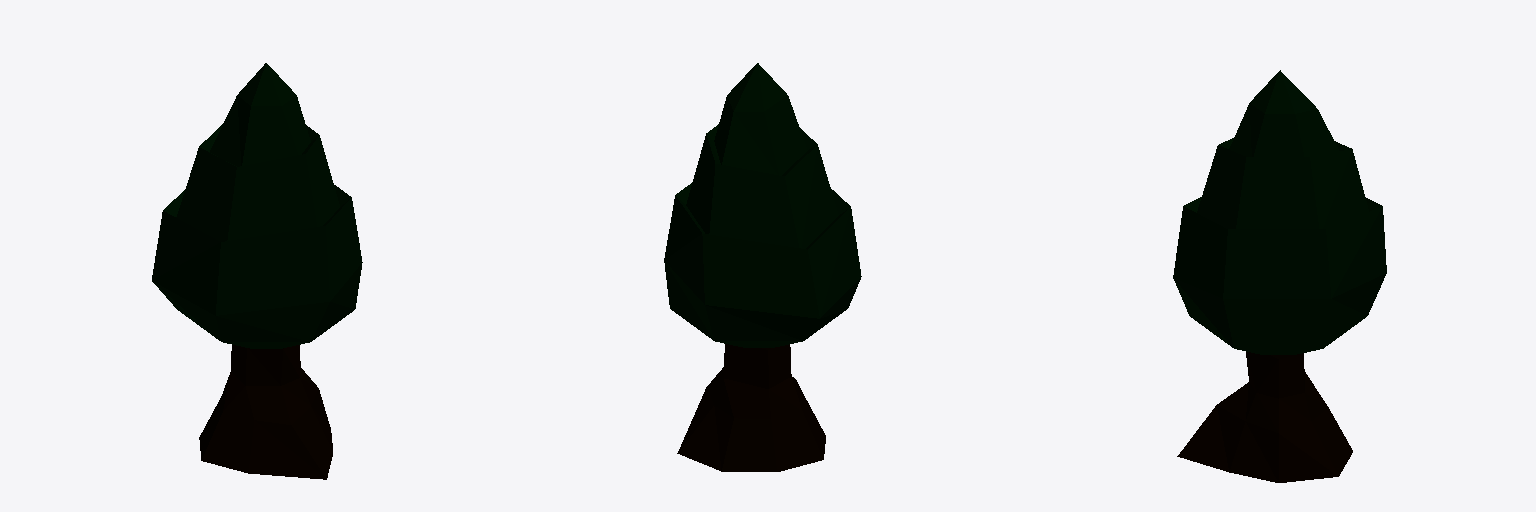
File: Trees.obj
3 renders of one model, left to right at view 1: azimuth 30°, elevation 25°; view 2: azimuth 150°, elevation 25°; view 3: azimuth 270°, elevation 25°, orthographic.
Parts seen in each view (by area): view 1: Tree_Pine_01; view 2: Tree_Pine_01; view 3: Tree_Pine_01.
Boxes of the visible parts, x1=… form: Tree_Pine_01: x1=152, y1=63, x2=362, y2=479; Tree_Pine_01: x1=664, y1=63, x2=861, y2=471; Tree_Pine_01: x1=1173, y1=70, x2=1386, y2=482.
Size of the model in its own units: 3.61 by 8.43 by 4.28.